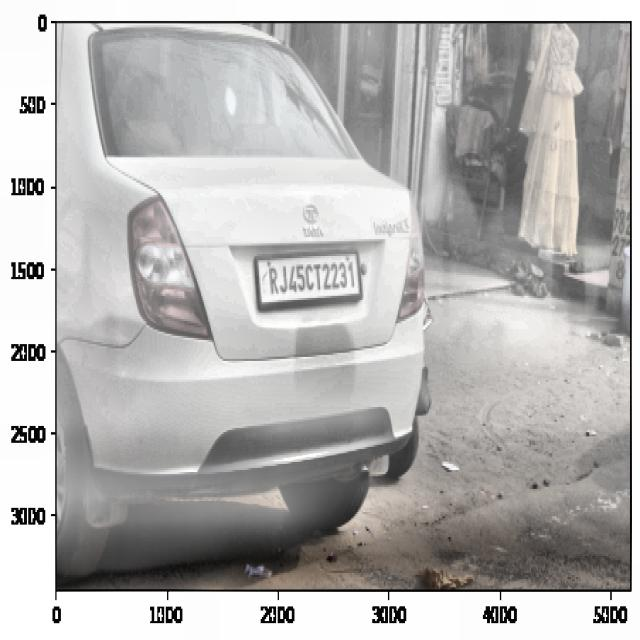license_plate: (264, 256, 361, 302)
